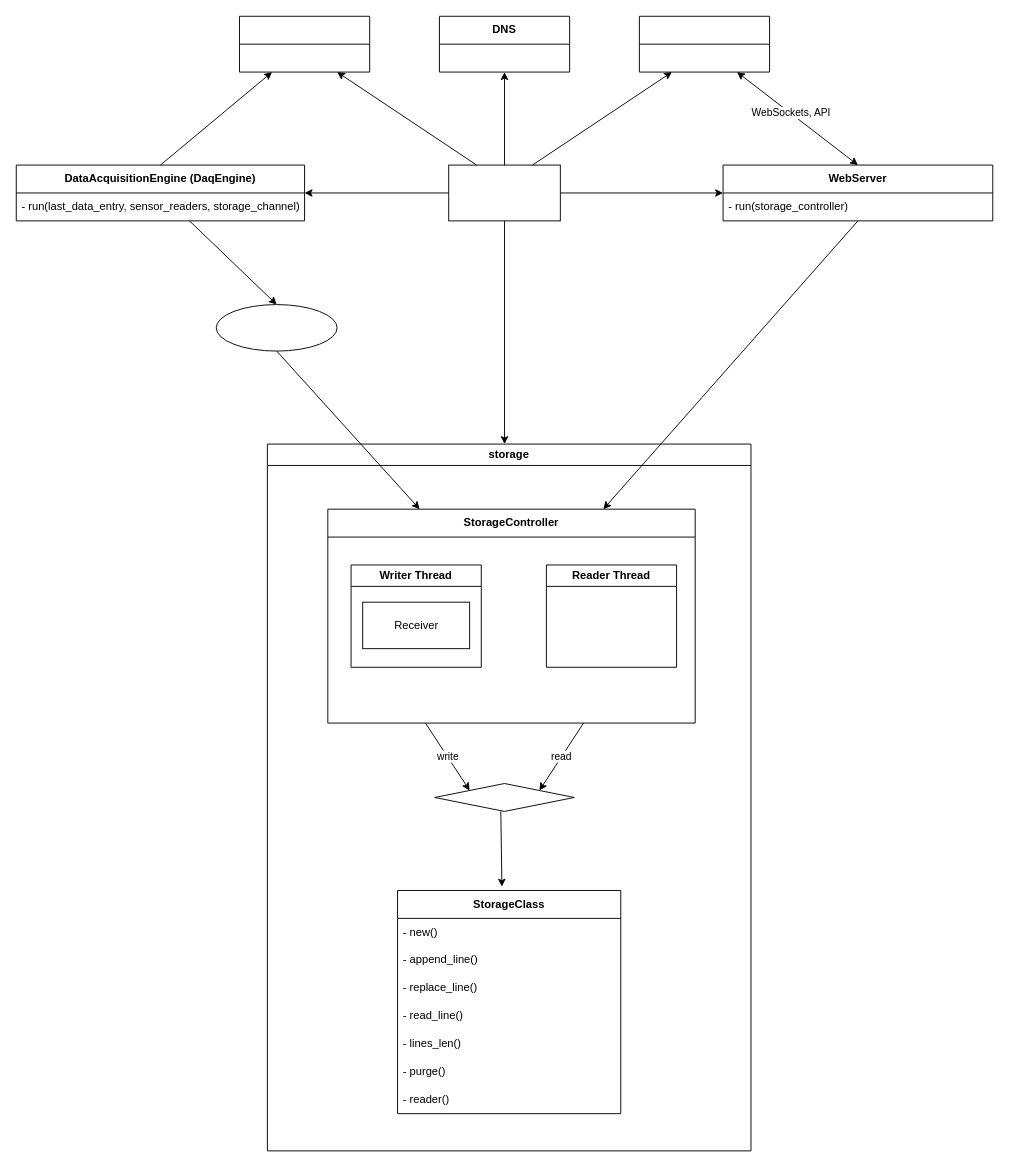
Some shapes in this 1009 by 1167 pixel diagram are drawn without their labels. The shapes that lost their labels are listed below. From the top down, each one's centre as x and y in pixels, then its label:
point 304,43: sensors
point 704,43: WiFi Access Point
point 504,192: main()
point 276,327: channel
point 504,797: Mutex
